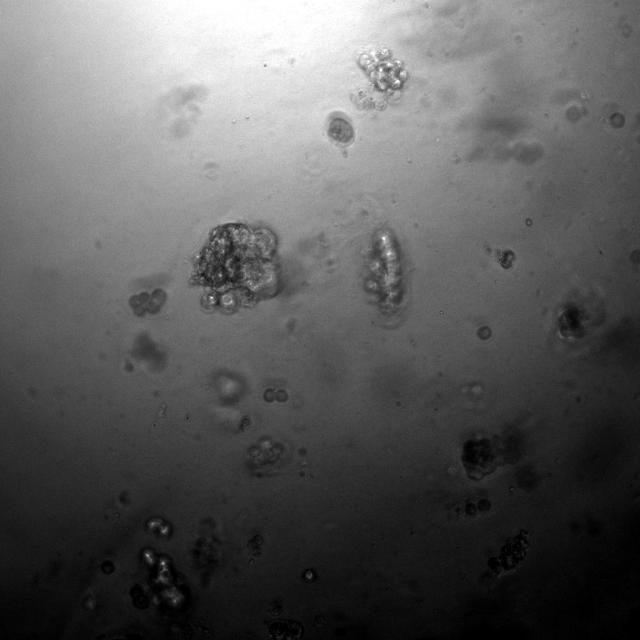organoid: (189, 222, 279, 315), (363, 226, 408, 326), (129, 547, 190, 615), (461, 425, 526, 480), (351, 48, 408, 110), (189, 519, 222, 587), (122, 332, 168, 373), (246, 436, 288, 476), (324, 111, 355, 148), (129, 287, 167, 316), (557, 304, 588, 339), (144, 517, 172, 539), (262, 388, 289, 403), (498, 249, 515, 270), (247, 534, 263, 555), (608, 111, 625, 128), (237, 415, 251, 433), (302, 567, 317, 583), (477, 325, 491, 339), (101, 559, 114, 574)
